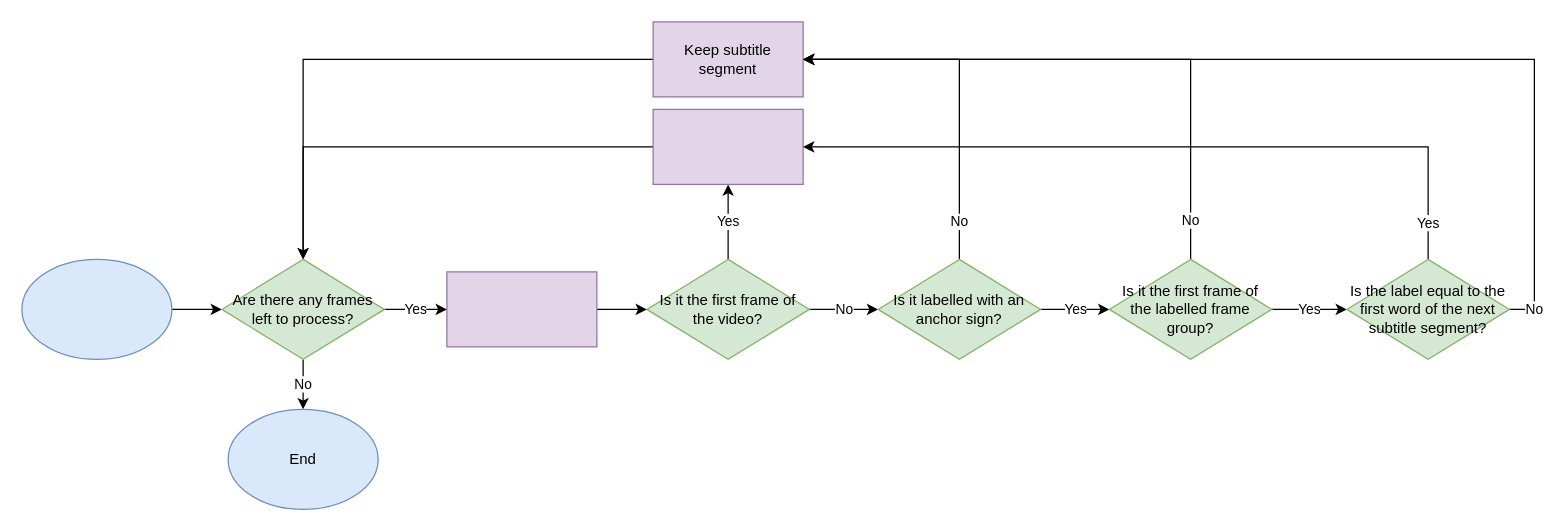
Image size: 1566x531. Some labels were removed from this diagram. The centre of each missing label's shape, as x and y in pixels:
Process next frame: point 521,309
Show next subtitle segment: point 727,146
Start: point 96,308
